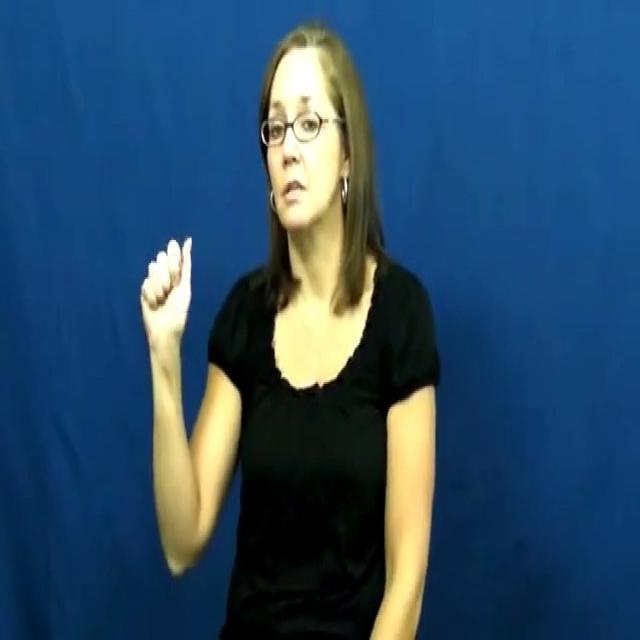sauce: (134, 234, 198, 358)
